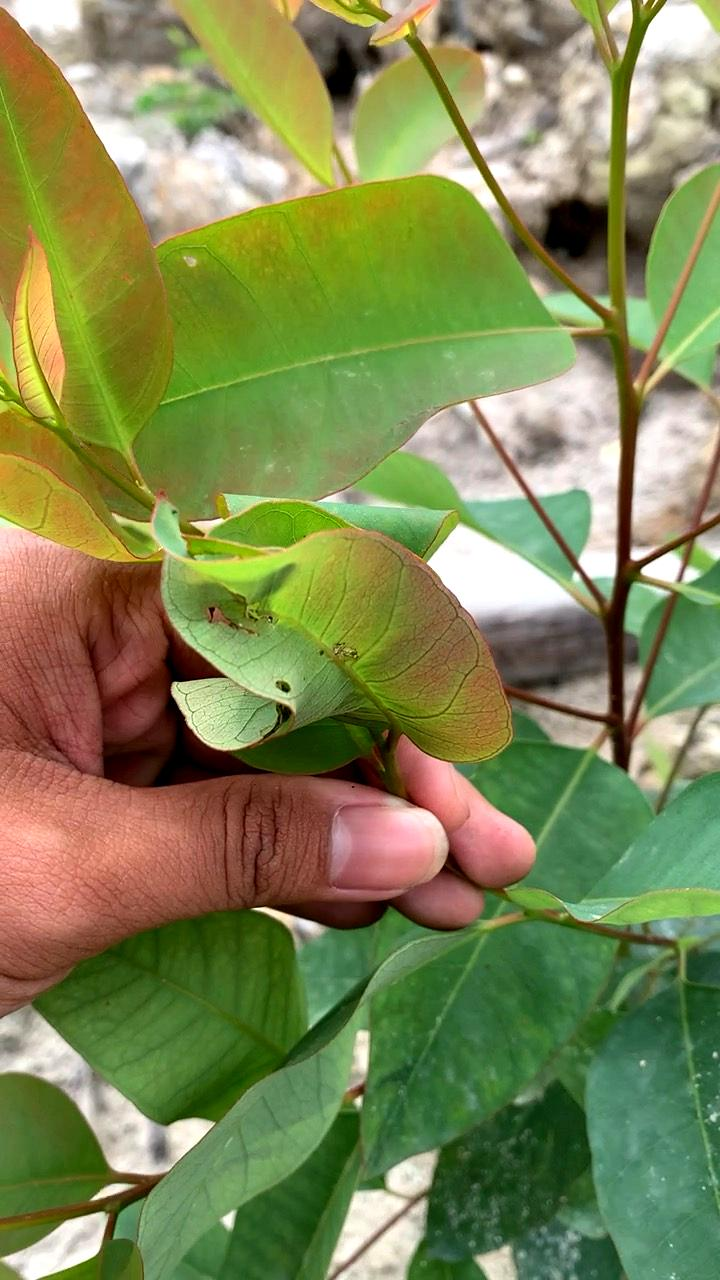Leaf Roller - Leaf: (107, 473, 528, 824)
